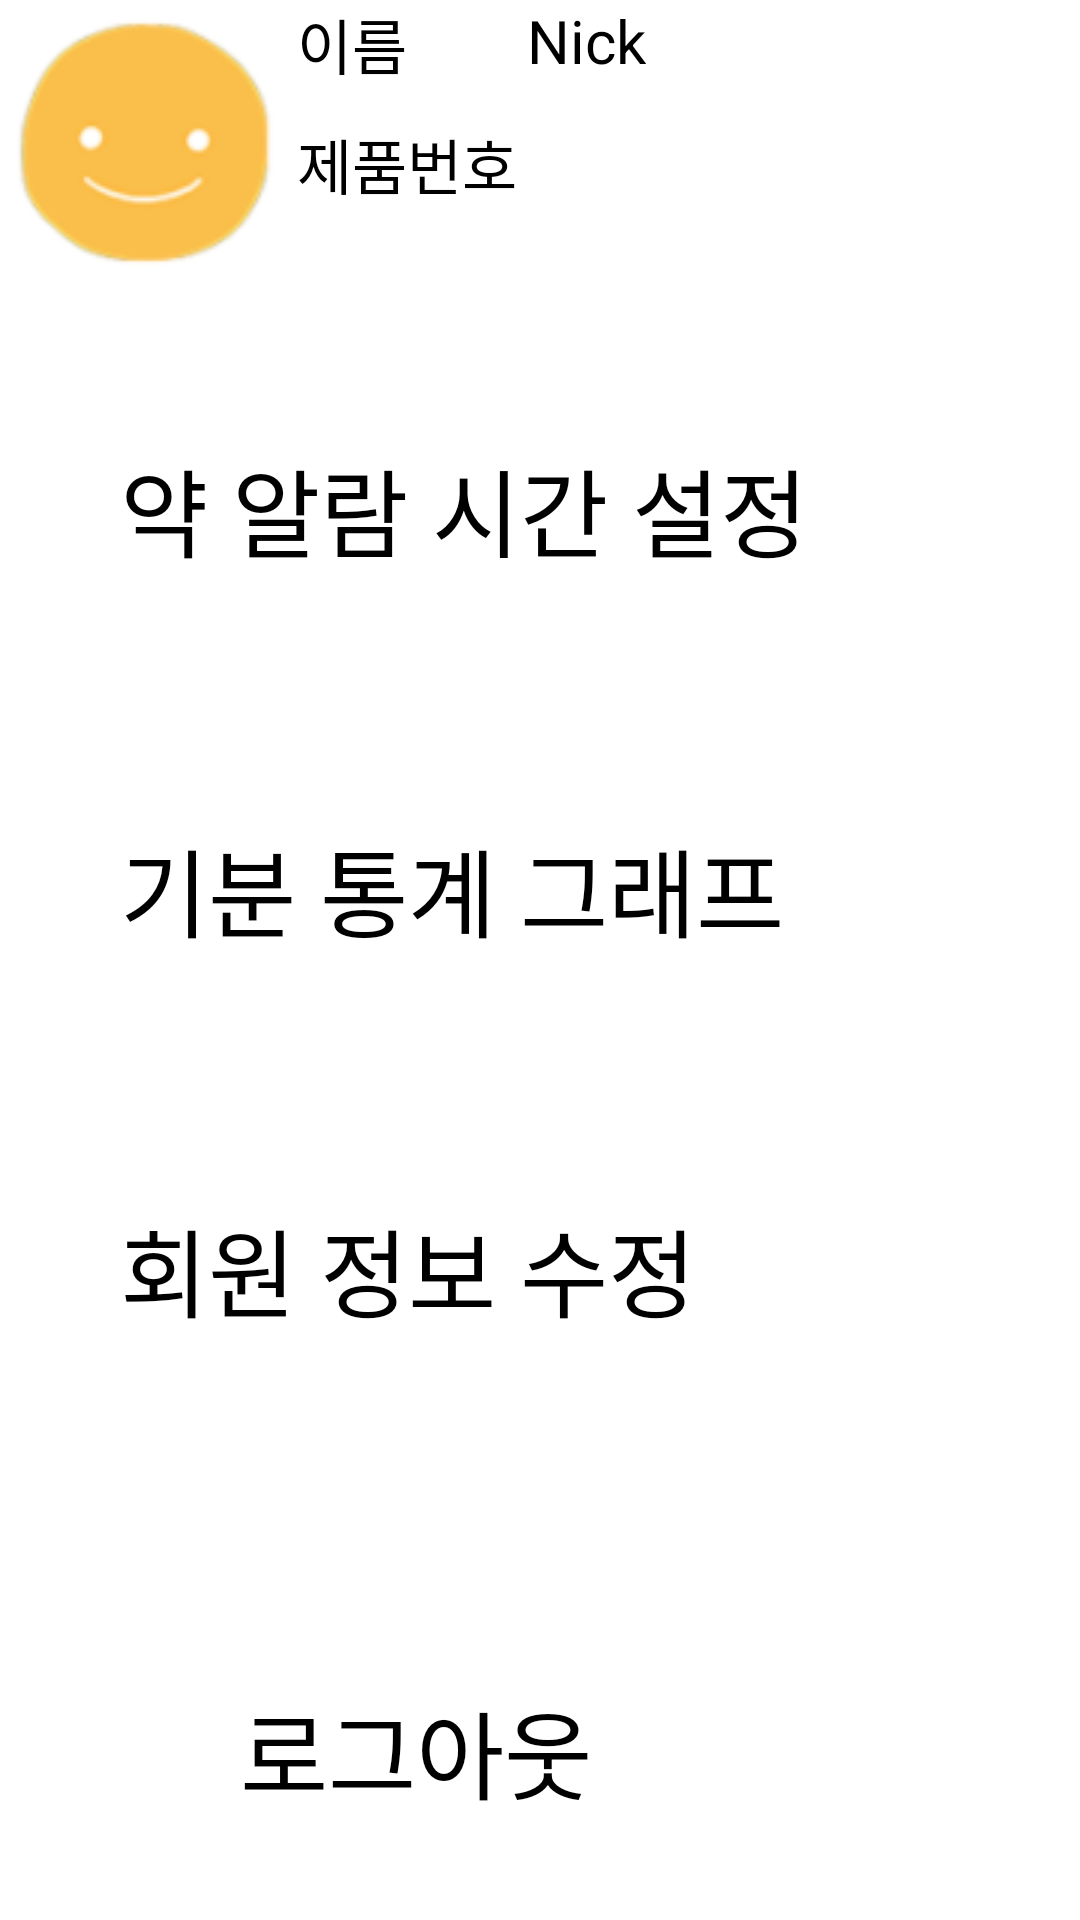

Named icons in this screenshot (1080×1920) and their bounding boxes, (x1, y1, x2, y2):
happy: (20, 23, 270, 262)
